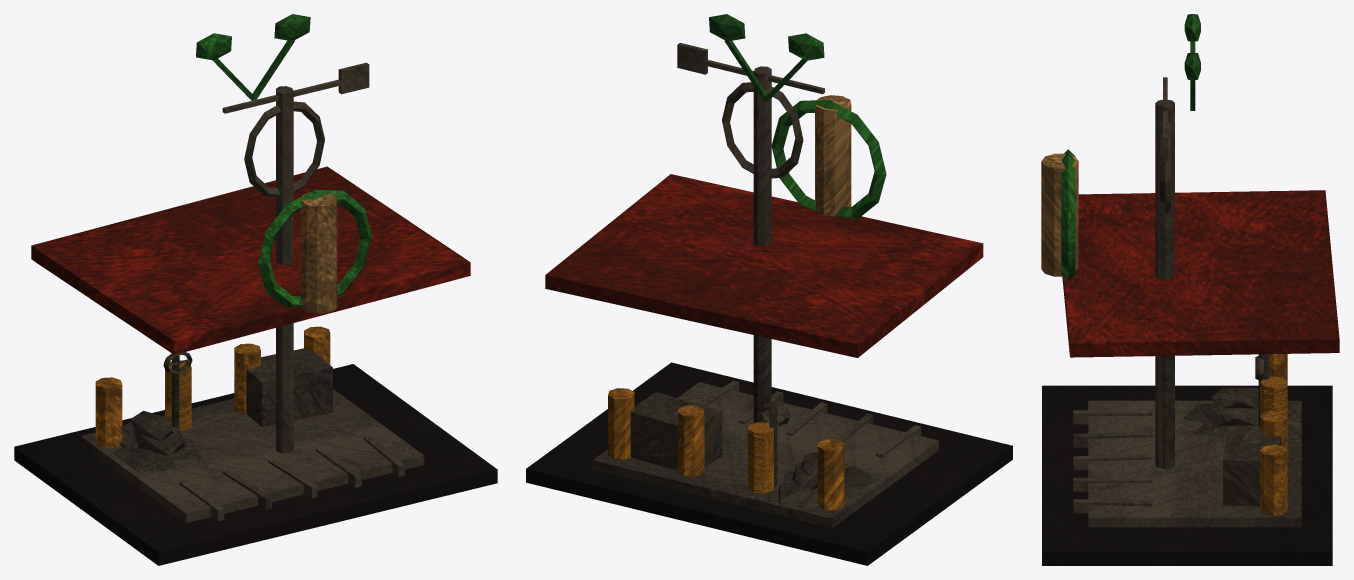
File: center-seed-vault.glb
3 renders of one model, left to right at view 1: azimuth 30°, elevation 25°; view 2: azimuth 150°, elevation 25°; view 3: azimuth 270°, elevation 25°, orthographic.
Parts seen in each view (by area): view 1: center-seed-vault; view 2: center-seed-vault; view 3: center-seed-vault.
Part boxes in pixels (box(x1,y1,x2,y2)): center-seed-vault: box(14, 14, 497, 565); center-seed-vault: box(526, 14, 1012, 565); center-seed-vault: box(1041, 14, 1339, 565).
Bounding box in the file's own units: 5.7 × 7.17 × 4.31.
Materials: 1 (1 with a texture image).
